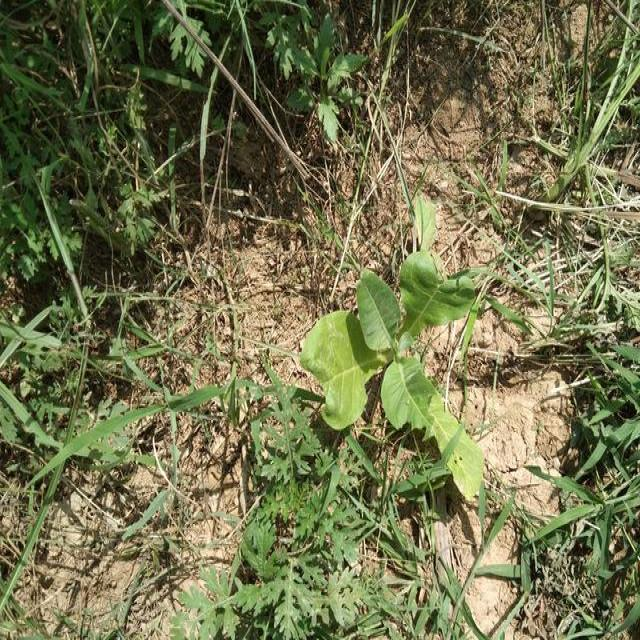crop: (320, 227, 512, 493)
